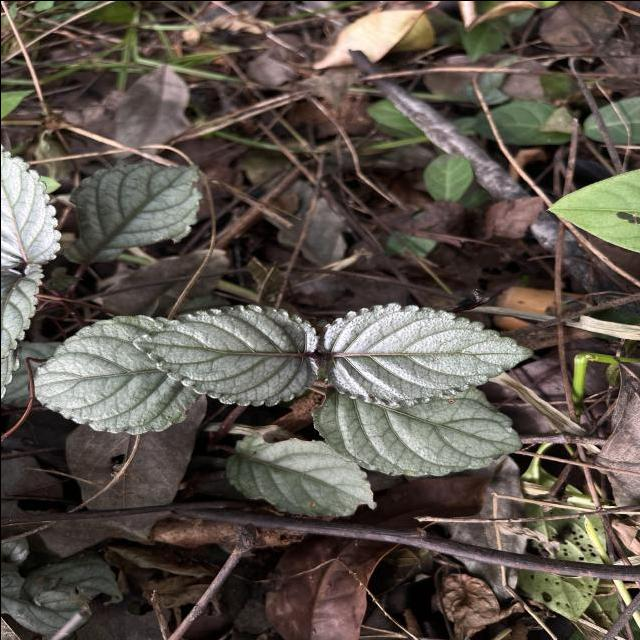Hemigraphis colorata: (313, 300, 534, 410), (22, 311, 200, 437), (308, 380, 525, 478), (128, 301, 322, 408), (56, 156, 205, 268), (222, 428, 378, 520), (0, 141, 62, 269)
